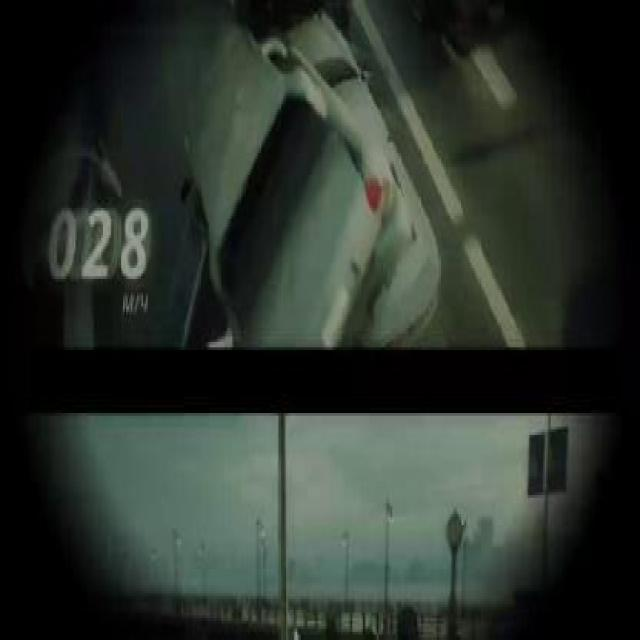accident: (177, 5, 452, 353)
